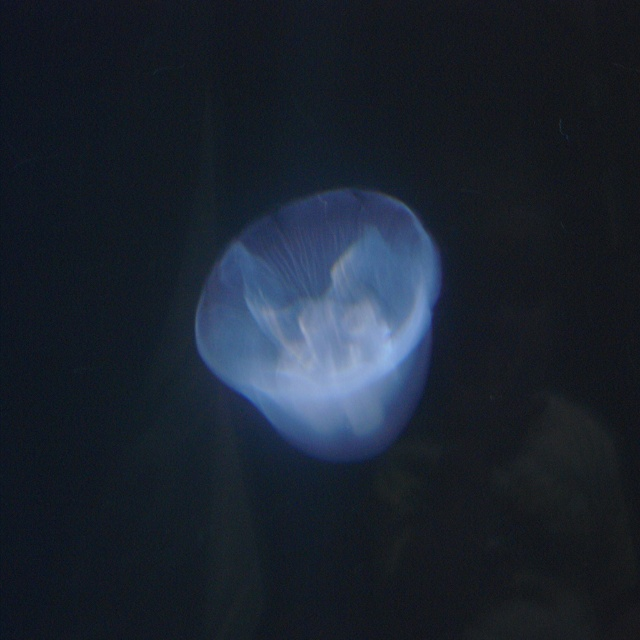Jellyfish: (192, 174, 442, 458)
